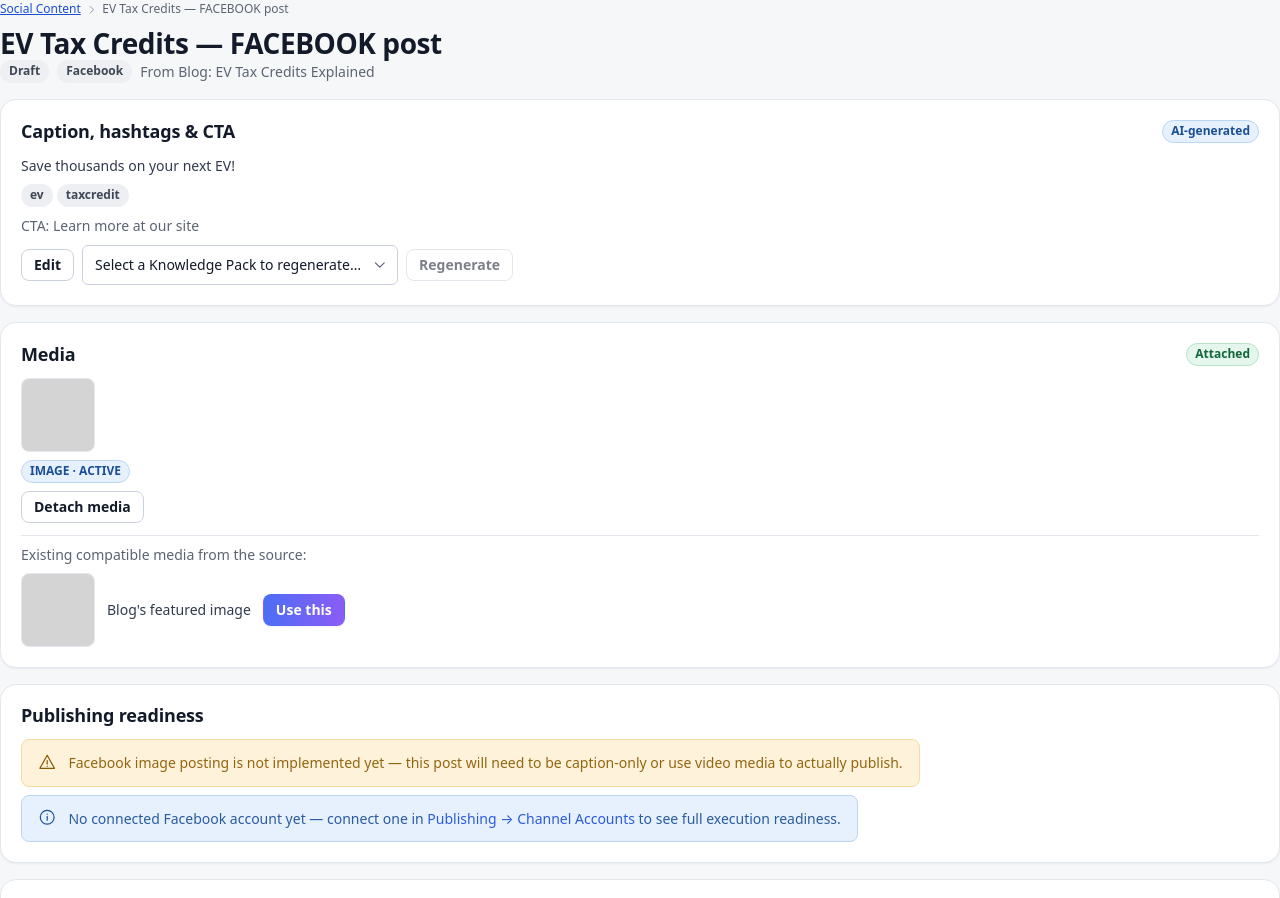
Scenario: SocialPostDetail › media picker surfaces the Blog's featured image as a compatible candidate and allows detach
Expected: the text "Blog's featured image" is shown, [107, 599, 251, 621]
Click the button "Use this" at (304, 610), box [263, 594, 345, 626]
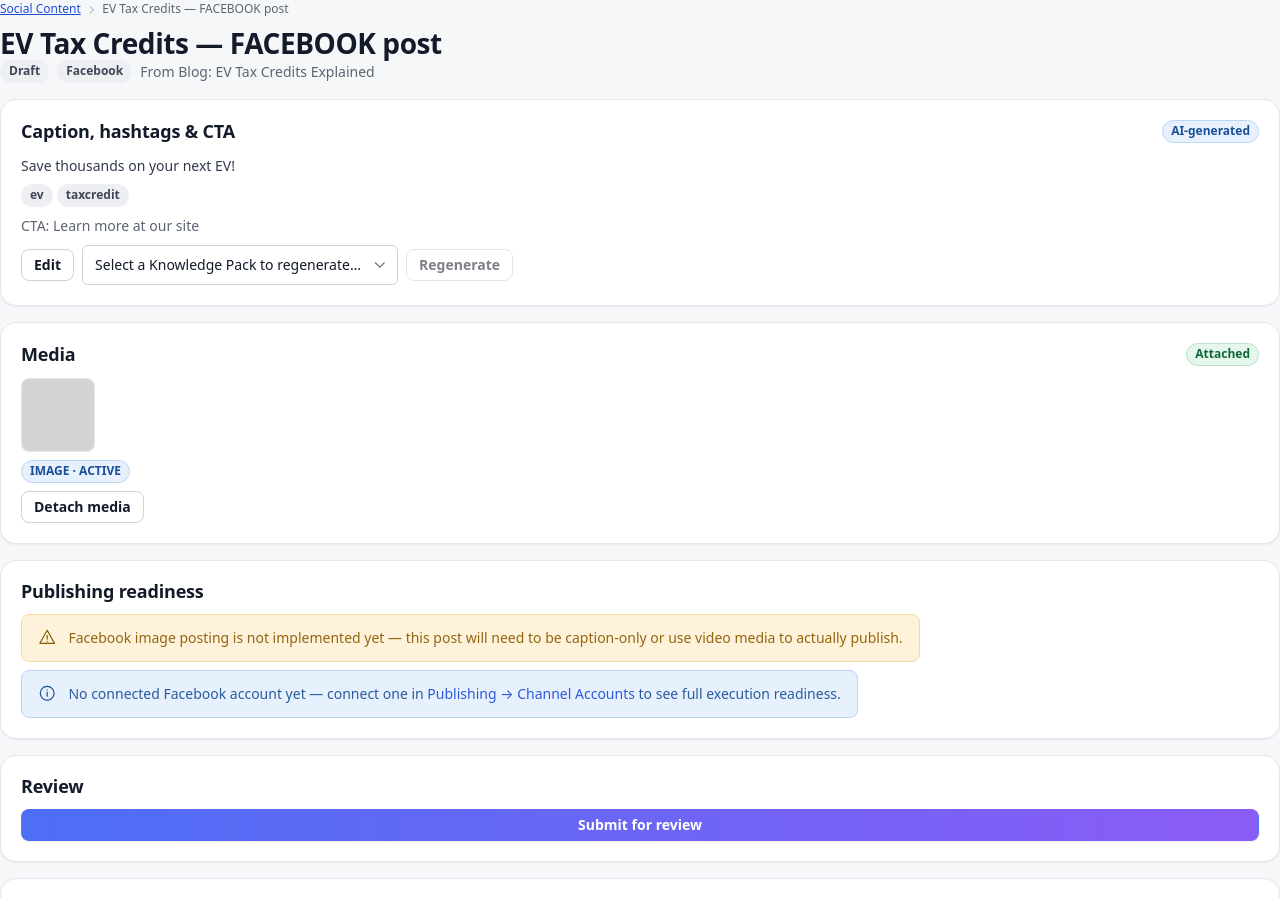
Expected: the text "IMAGE · ACTIVE" is shown, [21, 460, 130, 483]
Click the button "Detach media" at (82, 506), box [21, 490, 144, 522]
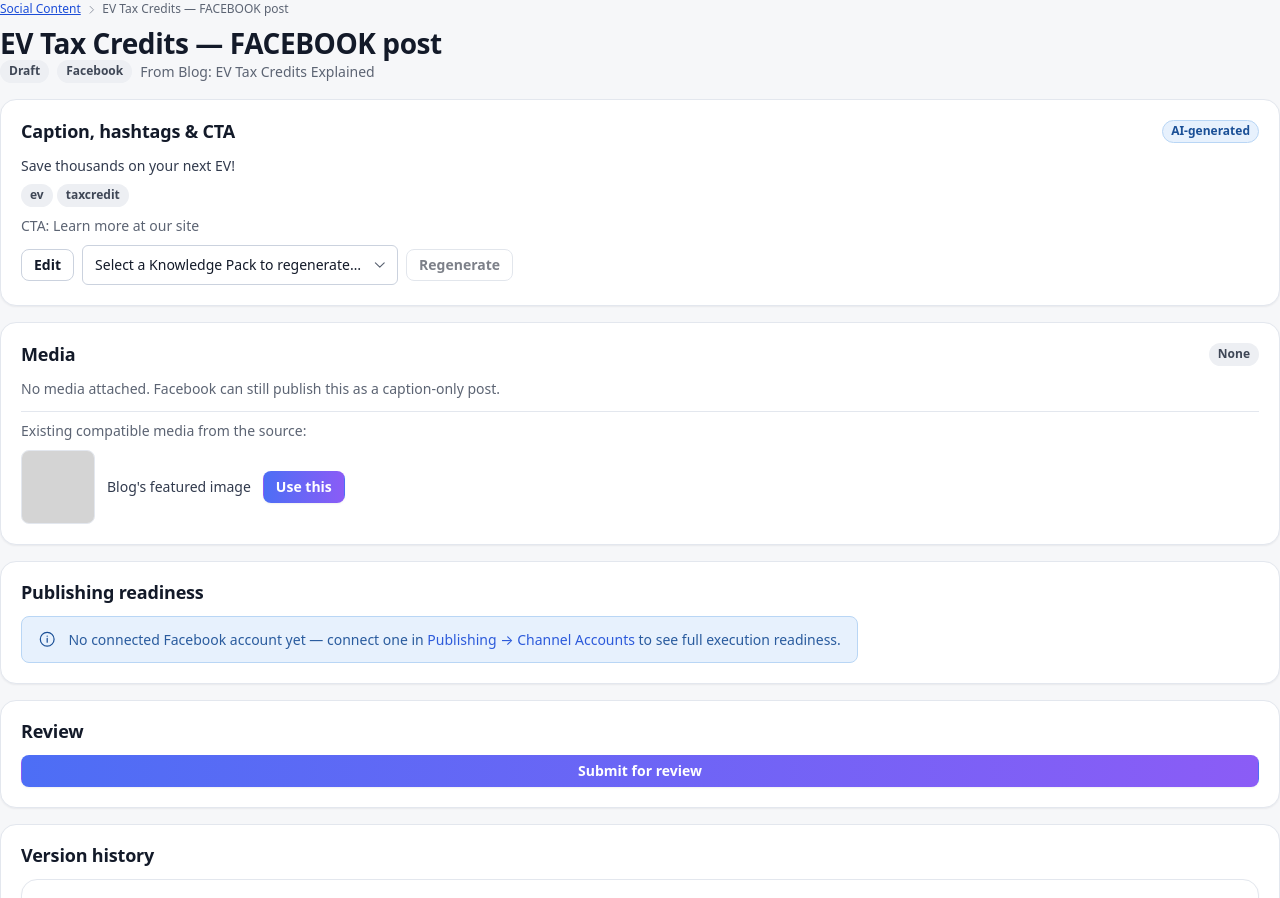
Now the text "No media attached" is shown, box [21, 379, 154, 398]
